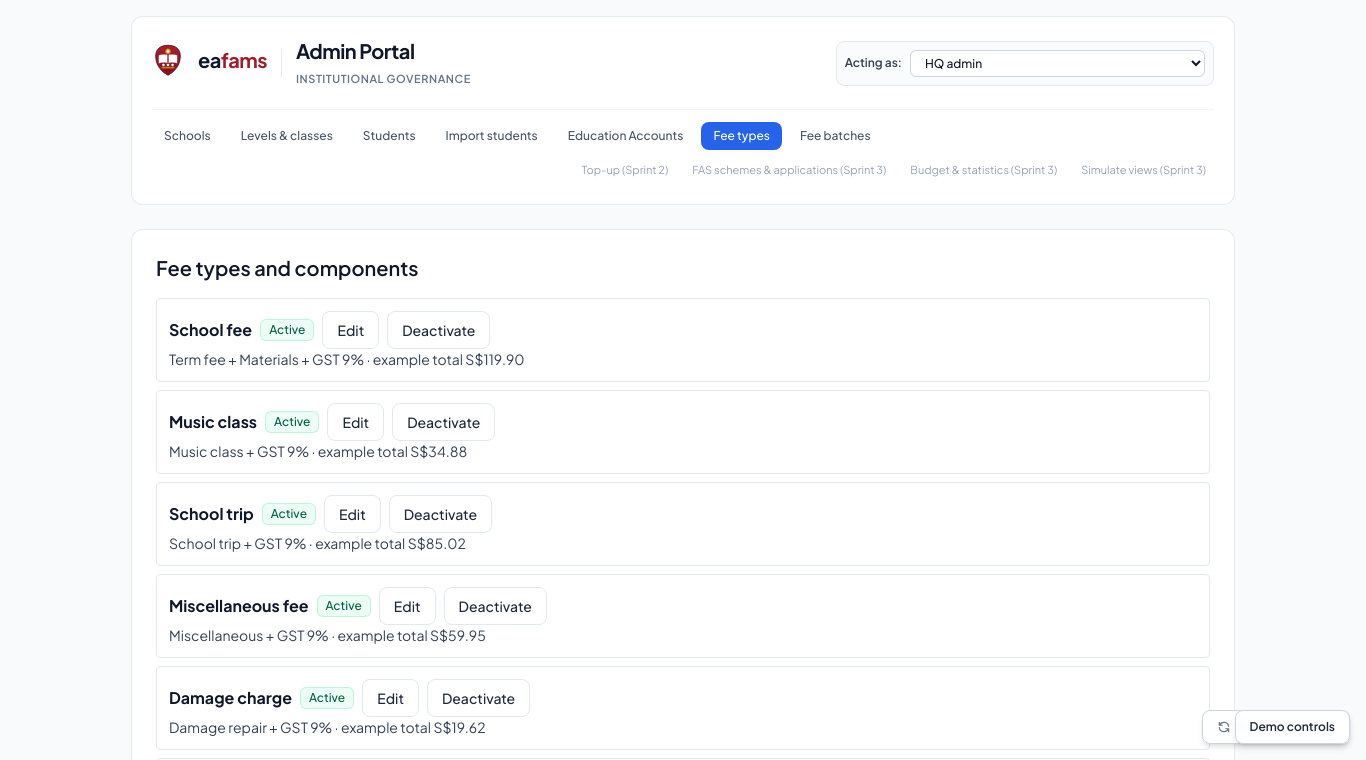
it: fee configuration edit flows › HQ renames a fee type and its components stay selected
Click the button with aria-label "edit fee type school fee" at (351, 330), box [322,311,379,349]
(page scrolled)
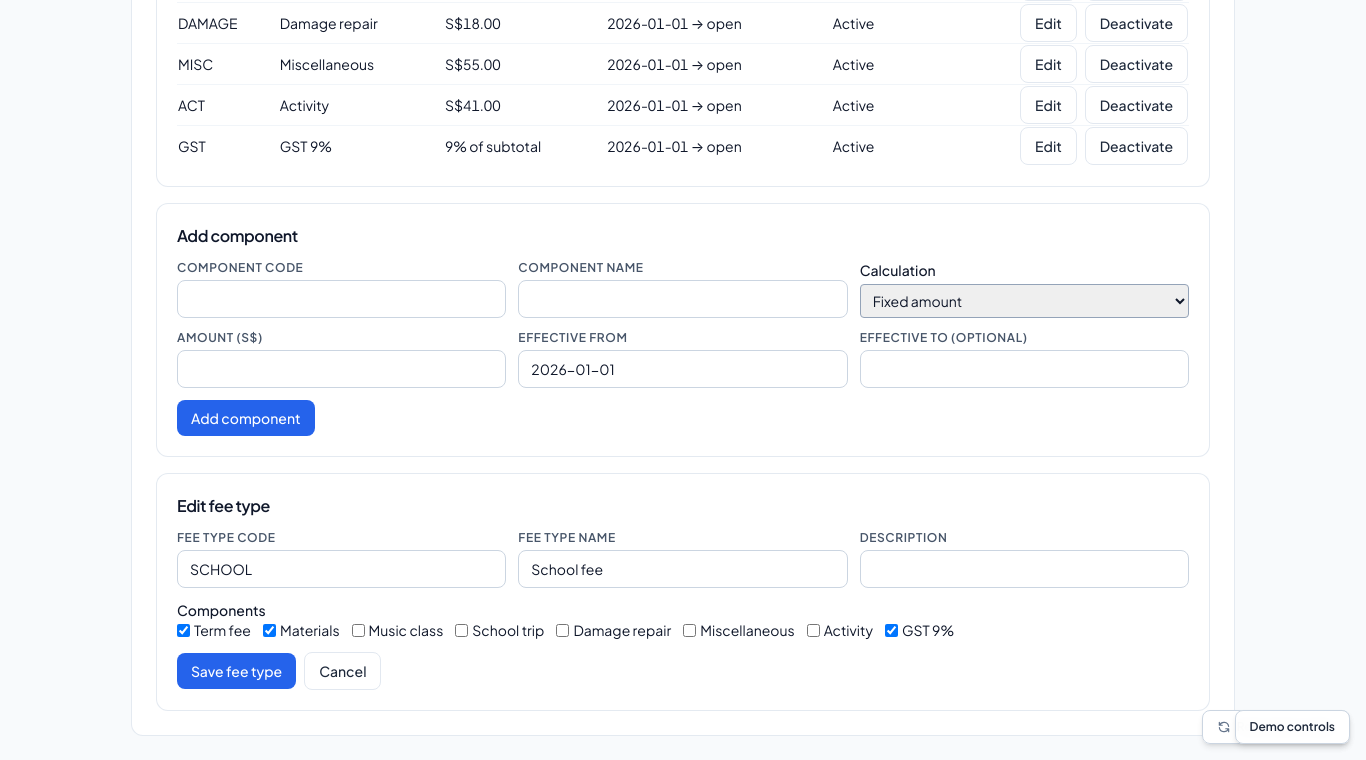
Check: the checkbox labelled "Term fee" is checked, box [177,624,190,636]
Check: the checkbox labelled "GST 9%" is checked, box [885,624,898,636]
Replace the text in the field labelled "Fee type name" with "School fee 2026" at (683, 569), box [518,550,848,588]
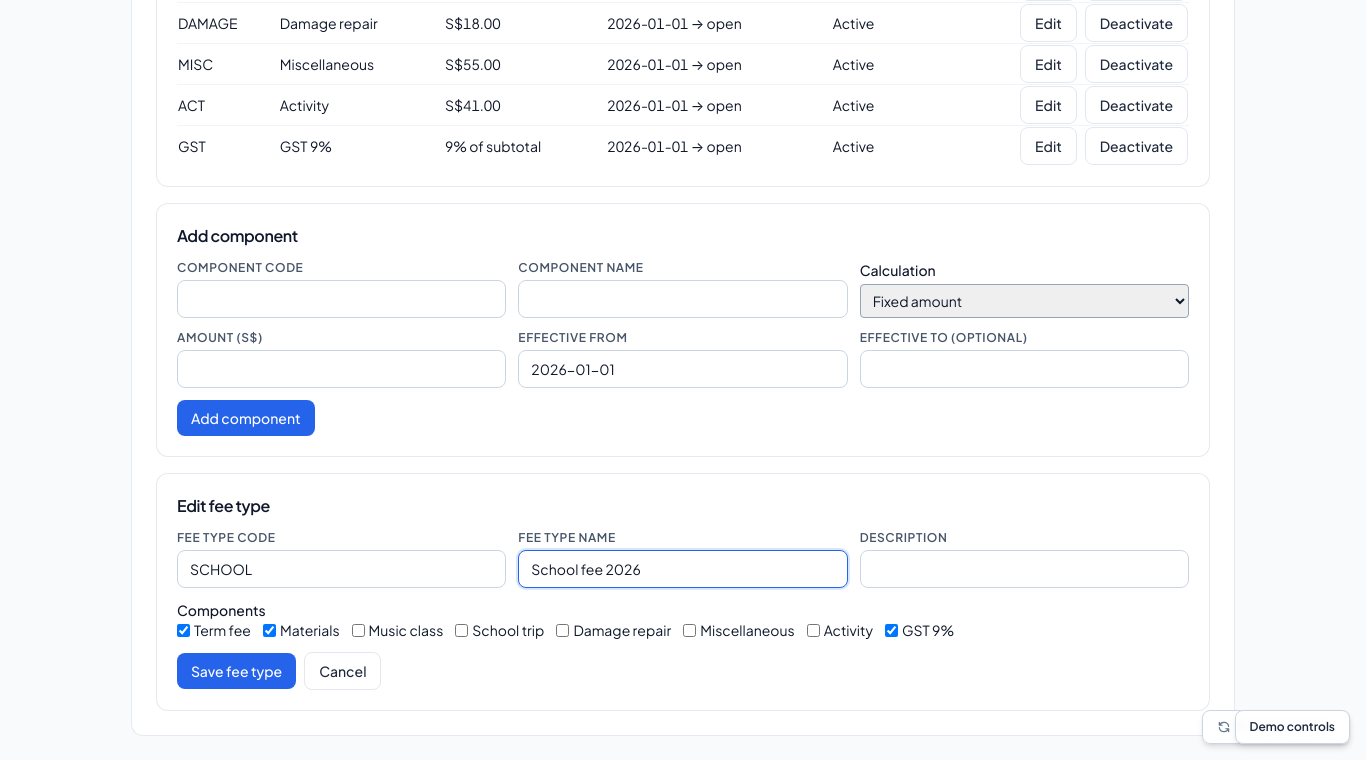
Click the button "Save fee type" at (237, 671), box [177,653,296,689]
(page scrolled)
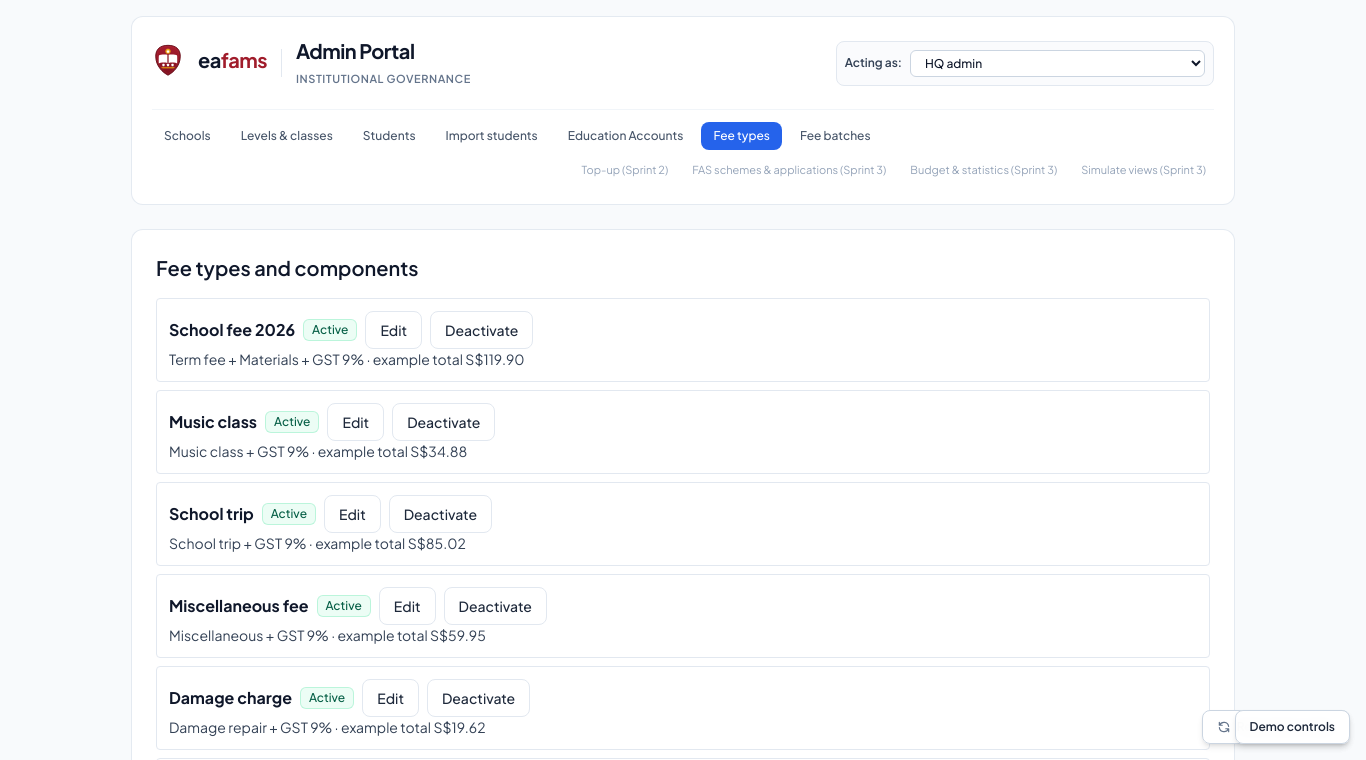
Check: the text "School fee 2026" is shown, box [169,318,295,342]
